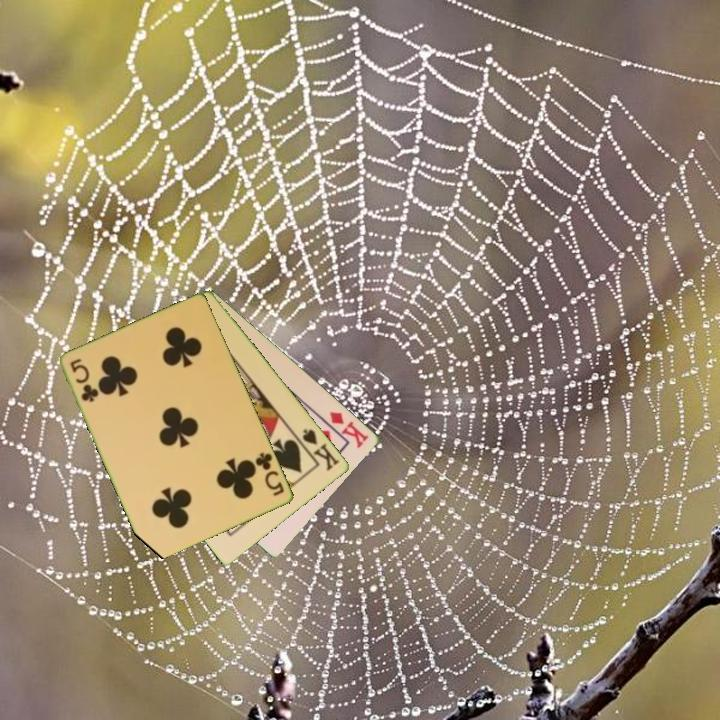5c: (252, 449, 288, 499), (67, 355, 101, 405)
Kd: (326, 408, 372, 451)
Ks: (294, 425, 343, 474)
